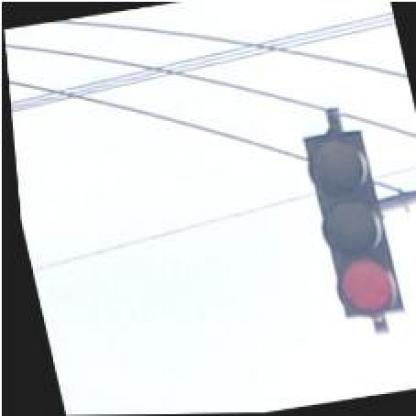red: (295, 126, 401, 321)
